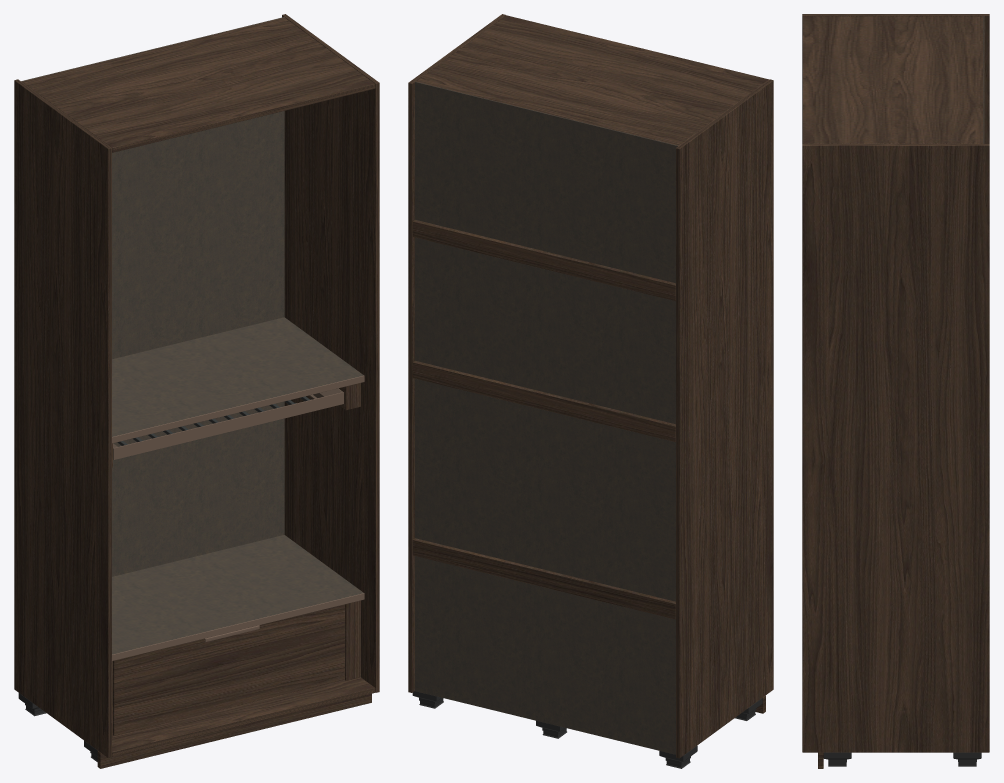
The picture shows the model from 3 angles, left to right: view 1: azimuth 30°, elevation 25°; view 2: azimuth 150°, elevation 25°; view 3: azimuth 270°, elevation 25°; orthographic projection.
Parts seen in each view (by area): view 1: HK1001087, BONG_01; view 2: HK1001087; view 3: HK1001087.
Part boxes in pixels (<box>): HK1001087: <box>14,14,379,768</box>; BONG_01: <box>112,375,364,660</box>; HK1001087: <box>408,14,773,768</box>; HK1001087: <box>802,14,989,768</box>.
Bounding box in the file's own units: 1 × 2.2 × 0.6.
8 materials, 7 textured.
